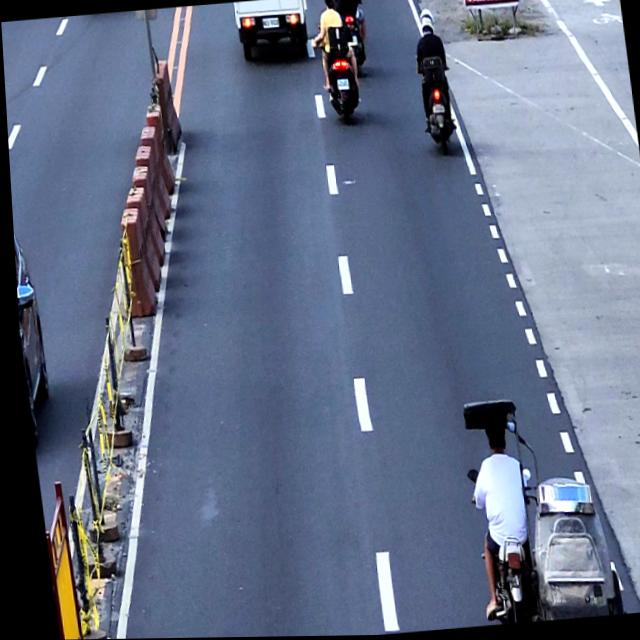Car: (10, 219, 51, 446), (232, 0, 313, 62)
License-Plate: (260, 17, 280, 30), (335, 78, 348, 91), (430, 103, 443, 115), (345, 35, 357, 48)
Motorcycle: (310, 25, 363, 127), (412, 52, 458, 158), (331, 0, 371, 80)
Tricycle: (451, 389, 618, 625)
